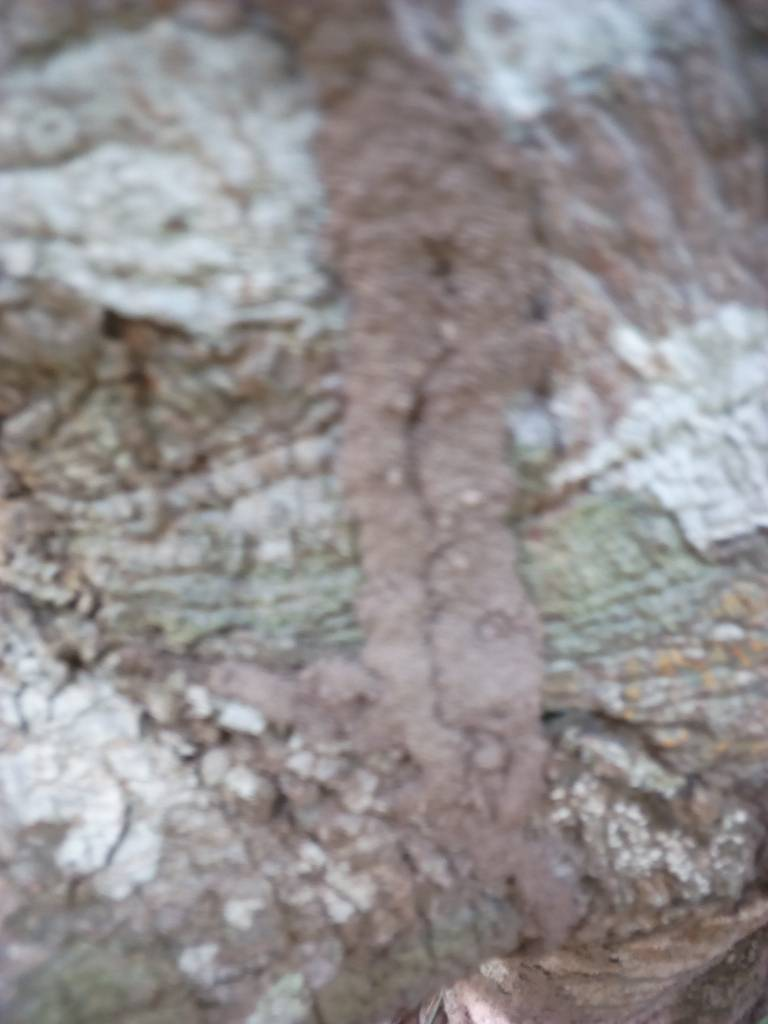Termites: (335, 28, 630, 932)
